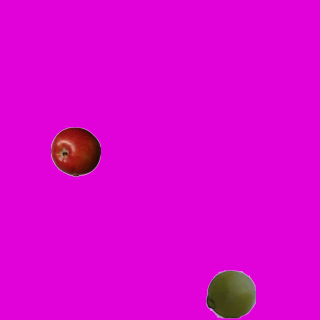Apple Braeburn: (50, 126, 100, 176)
Grape White 4: (205, 268, 255, 318)
